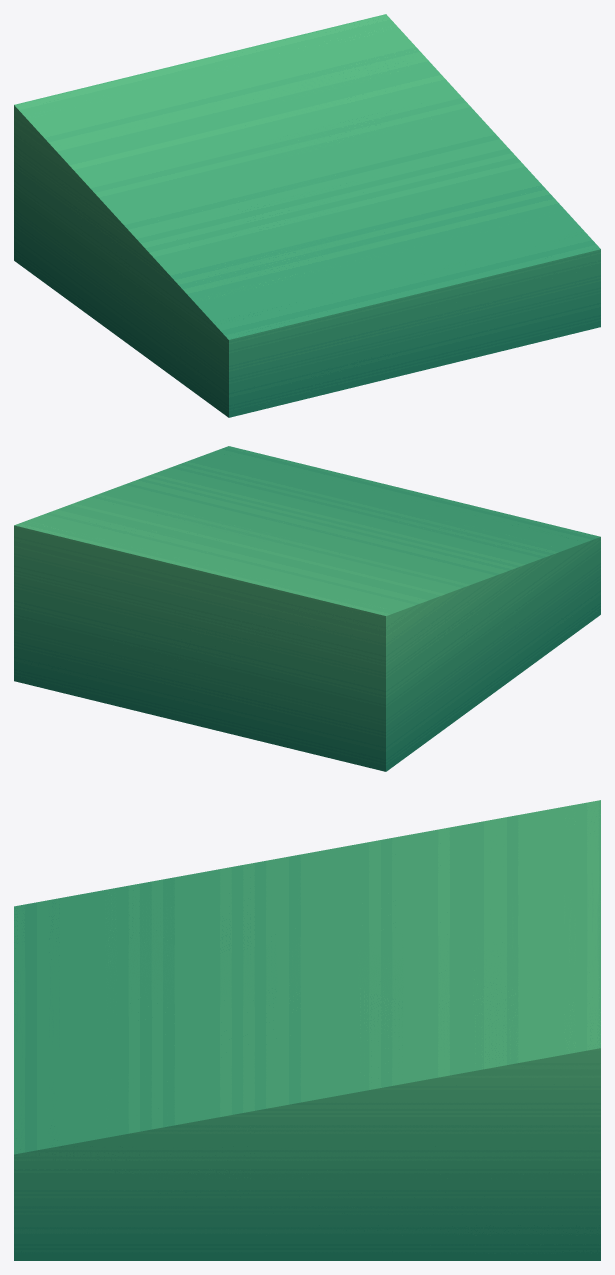
File: tile-slope.glb
The picture shows the model from 3 angles, top to bottom: view 1: azimuth 30°, elevation 25°; view 2: azimuth 150°, elevation 25°; view 3: azimuth 270°, elevation 25°; orthographic projection. The views are drawn at different scales.
Parts seen in each view (by area): view 1: tile-slope; view 2: tile-slope; view 3: tile-slope.
Part boxes in pixels (bbox=[...]): tile-slope: bbox=[14, 14, 600, 417]; tile-slope: bbox=[14, 446, 600, 771]; tile-slope: bbox=[14, 800, 600, 1260].
Size of the model in its own units: 1 by 0.4 by 1.
Materials: 1 (1 with a texture image).
